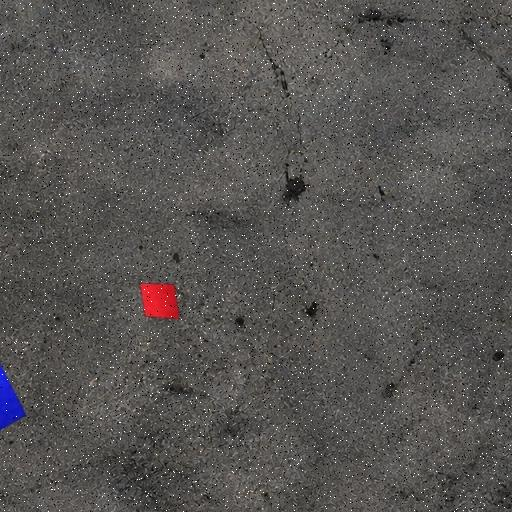BLUE_SQUARE: (0, 354, 27, 448)
RED_SQUARE: (139, 282, 180, 320)
